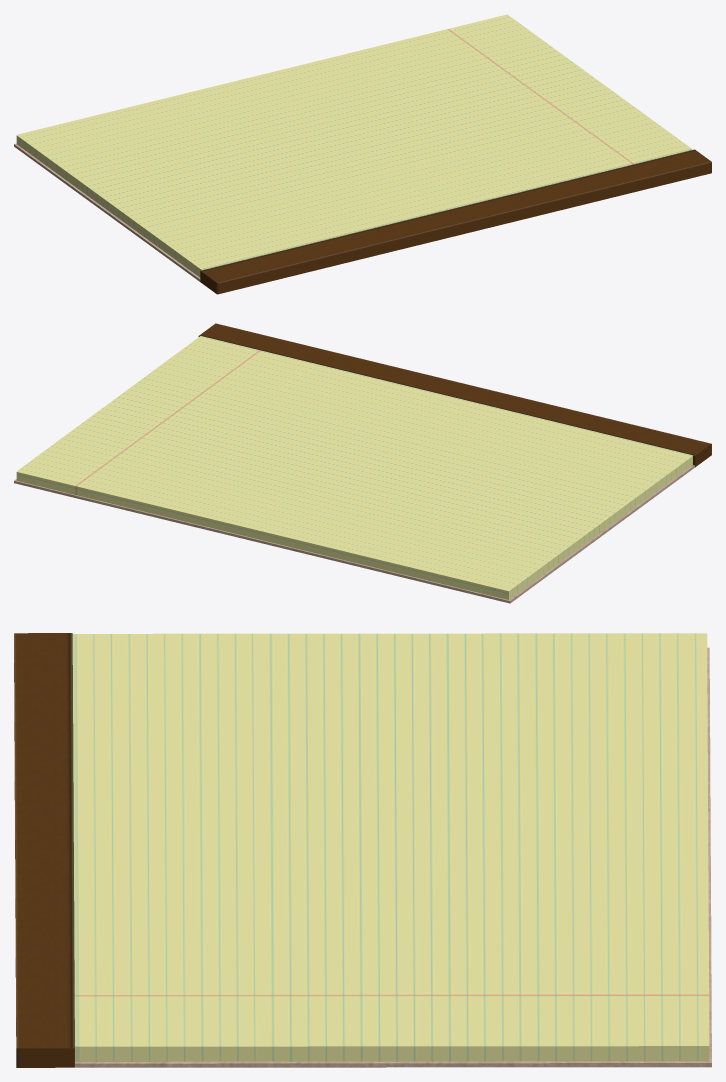
File: LegalPad_6.glb
3 views of the same model, one above another, from view 1: azimuth 30°, elevation 25°; view 2: azimuth 150°, elevation 25°; view 3: azimuth 270°, elevation 25° (orthographic). The views are drawn at different scales.
Parts seen in each view (by area): view 1: page, Legal Pad; view 2: page, Legal Pad; view 3: page, Legal Pad.
Part boxes in pixels (left/top/right/bottom): page: left=17, top=14, right=692, bottom=269; Legal Pad: left=14, top=135, right=711, bottom=294; page: left=17, top=336, right=692, bottom=590; Legal Pad: left=14, top=323, right=711, bottom=603; page: left=72, top=633, right=709, bottom=1045; Legal Pad: left=14, top=633, right=711, bottom=1067.
Size of the model in its own units: 18.48 by 0.4243 by 13.11.
Materials: 21 (21 with a texture image).
